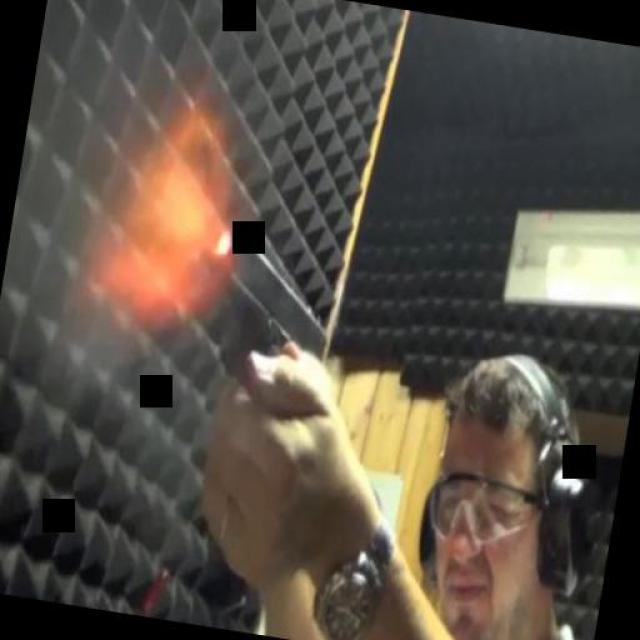gun: (172, 201, 346, 411)
